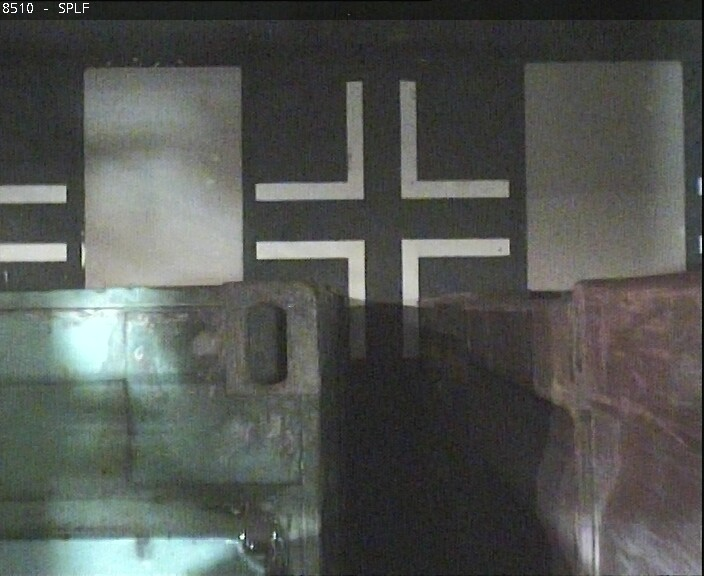groundmarker_1: (254, 237, 510, 355), (254, 84, 509, 202)
